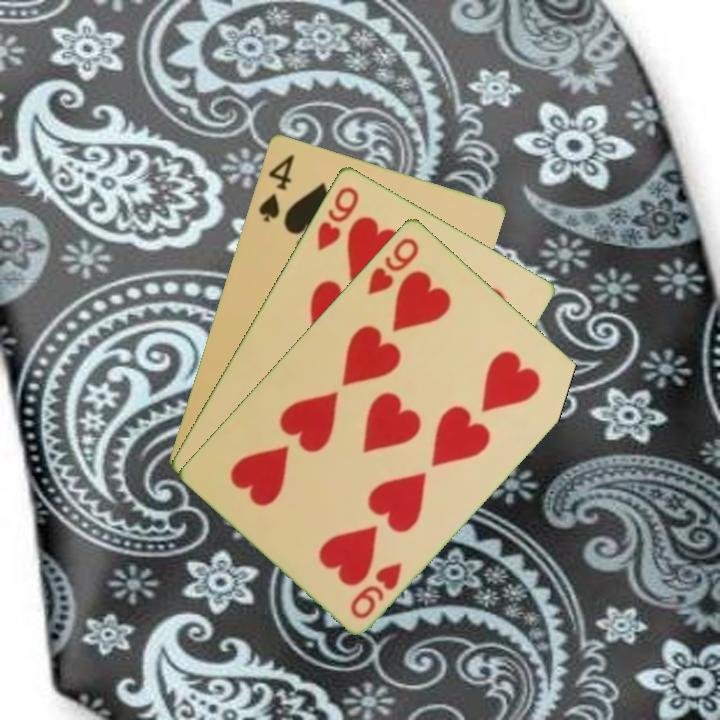4s: (255, 150, 297, 225)
9h: (346, 558, 406, 622), (363, 233, 422, 298), (313, 182, 362, 253)
